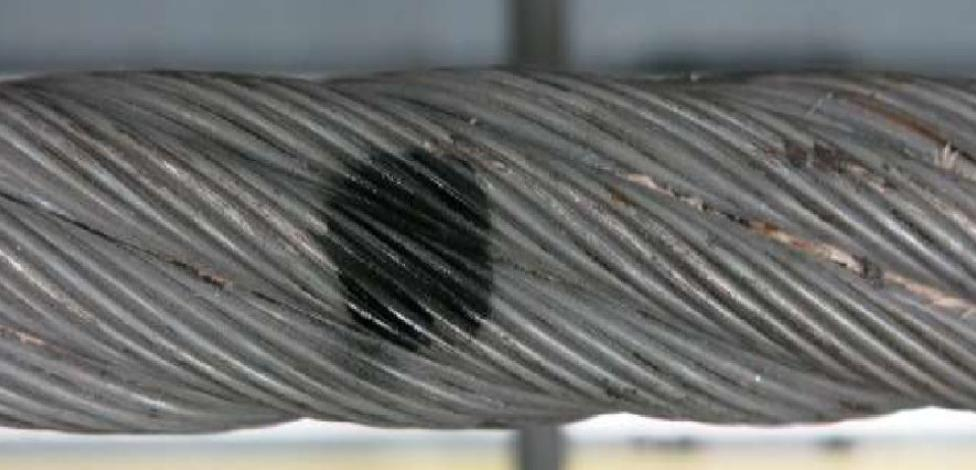thunderbolt: (311, 138, 511, 360)
